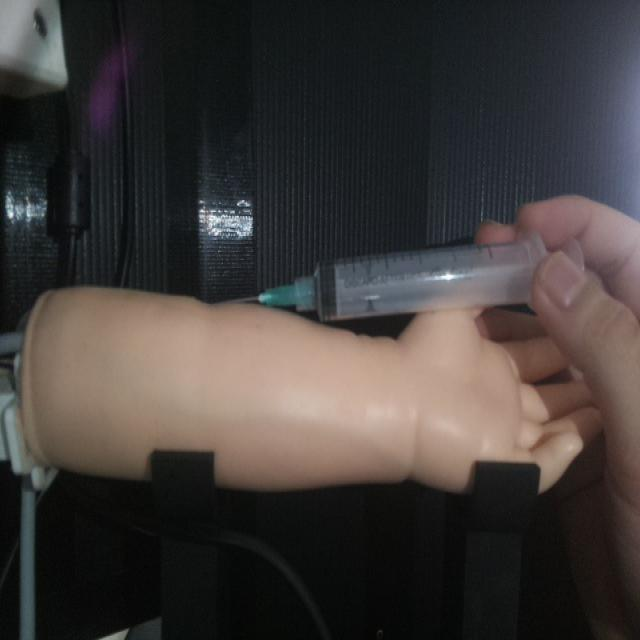Outside: (227, 227, 583, 324)
